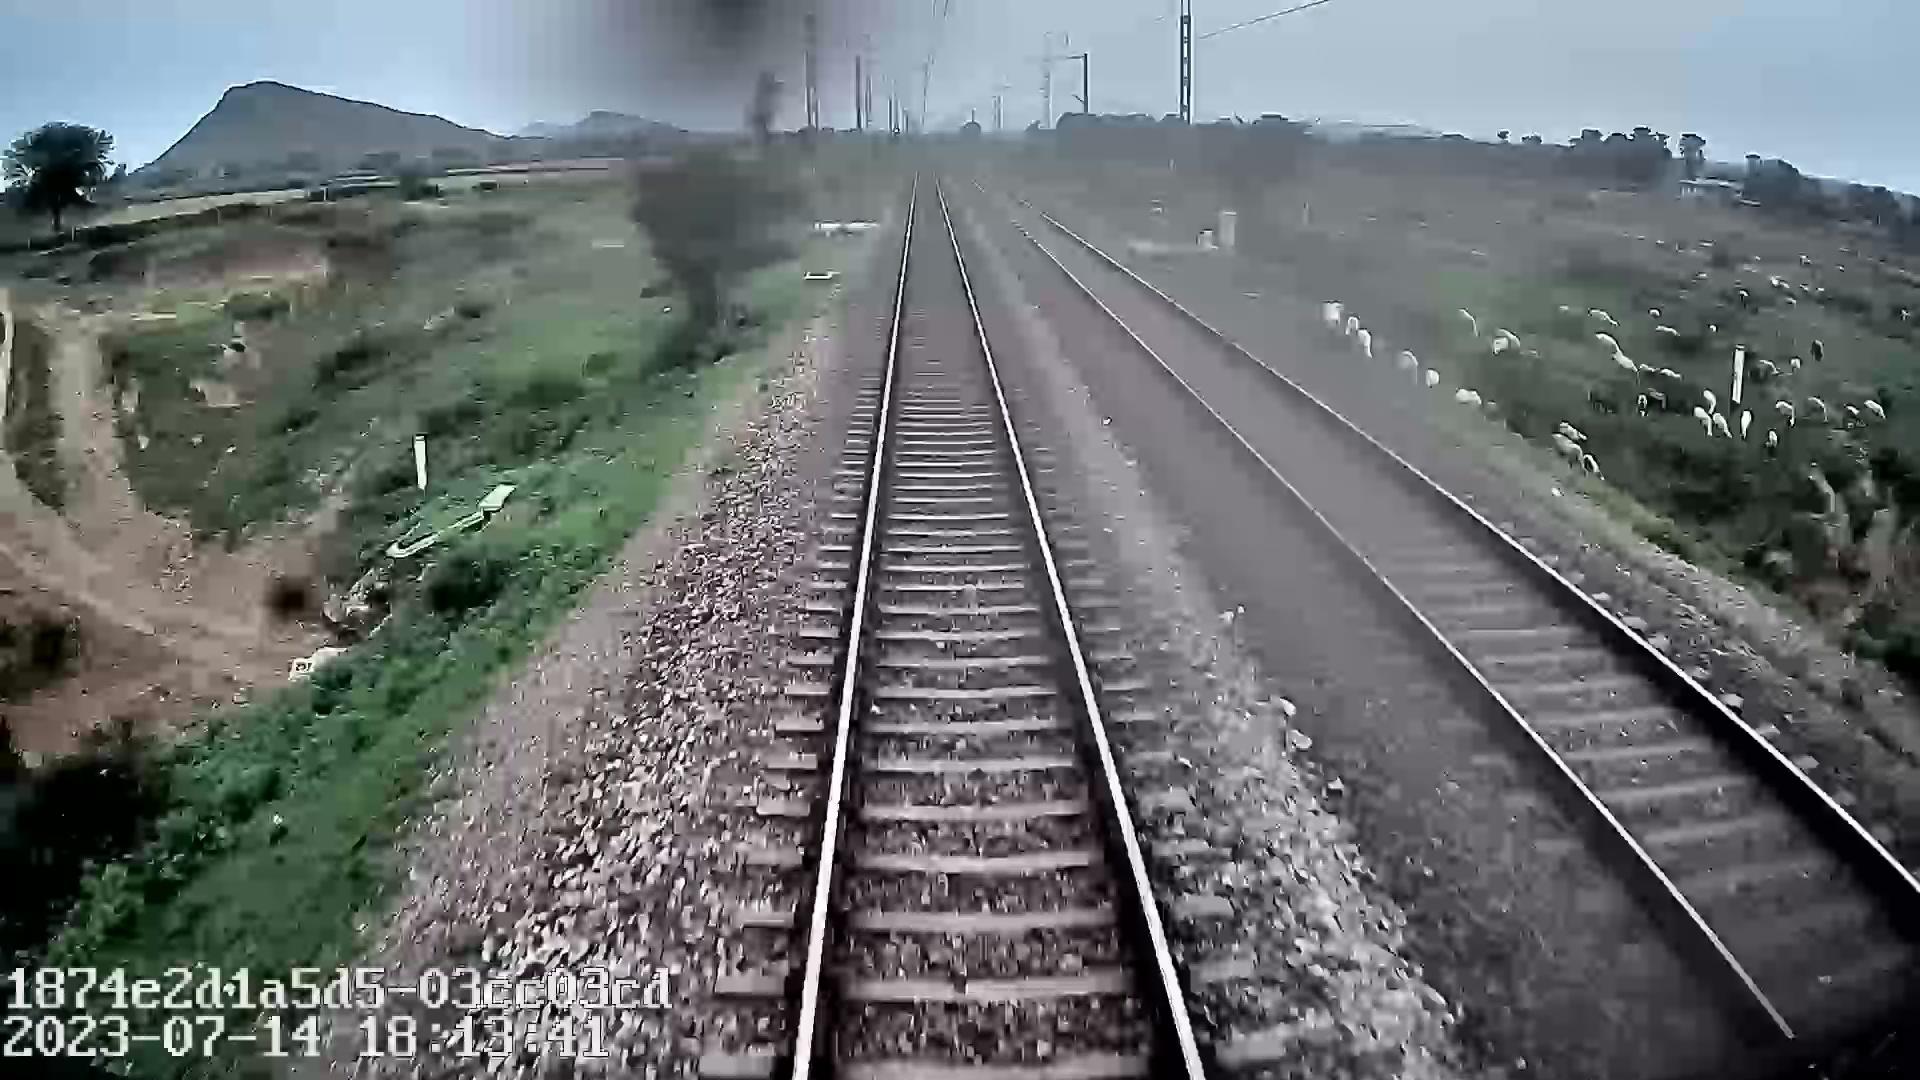track1: (802, 178, 1199, 1073)
track2: (996, 203, 1919, 1013)
